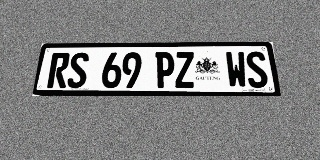6: (101, 52, 123, 88)
9: (121, 52, 142, 88)
P: (155, 52, 175, 88)
R: (47, 53, 71, 88)
S: (245, 51, 269, 88), (66, 52, 89, 88)
W: (225, 51, 248, 88)
Z: (175, 52, 195, 88)
